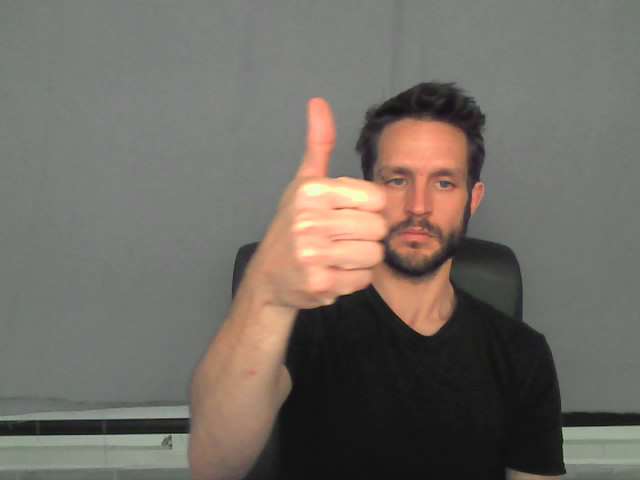thumbsup: (258, 96, 387, 309)
